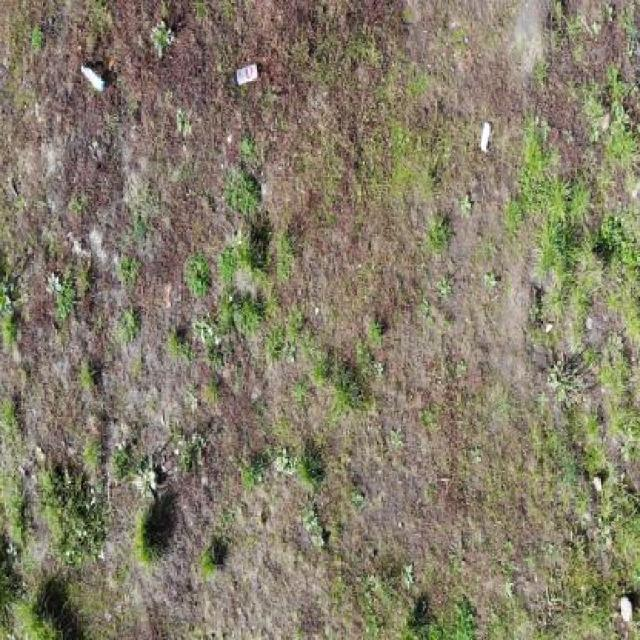Garbage: (79, 65, 104, 95), (234, 62, 260, 88), (478, 118, 492, 152)
